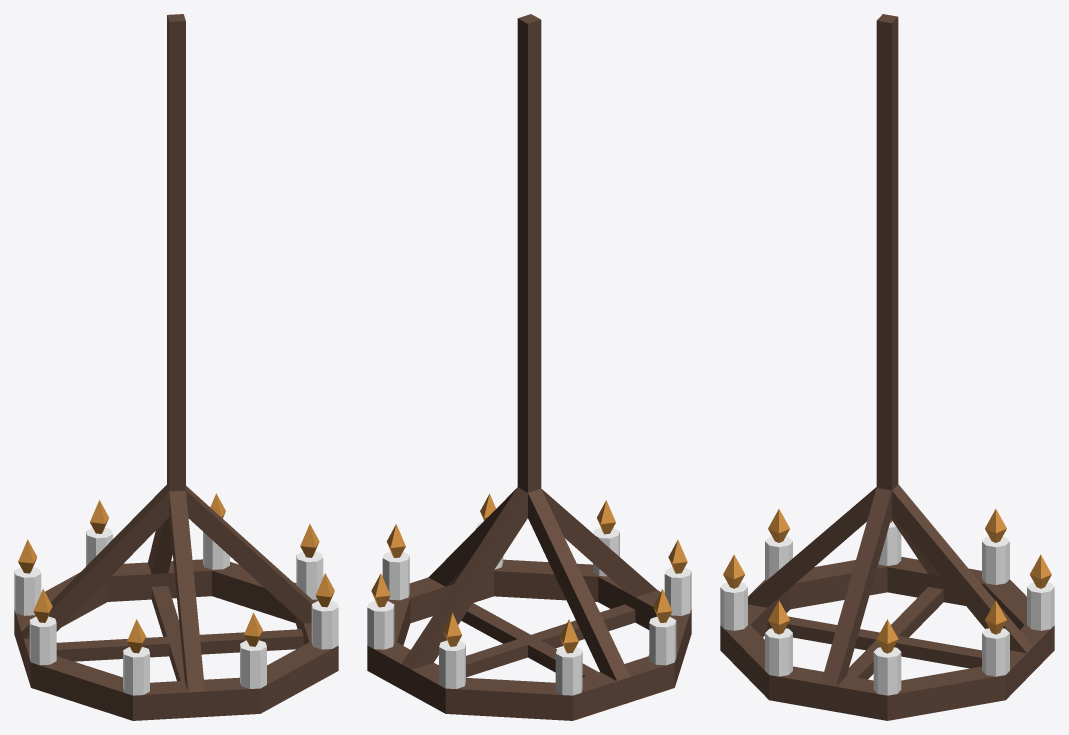
The model's file is LightCeilling.fbx.
The picture shows the model from 3 angles, left to right: view 1: azimuth 30°, elevation 25°; view 2: azimuth 150°, elevation 25°; view 3: azimuth 270°, elevation 25°; orthographic projection.
Visible parts, largest first — view 1: LightCeilLarge_2x2x3; view 2: LightCeilLarge_2x2x3; view 3: LightCeilLarge_2x2x3.
Part boxes in pixels (<box>): LightCeilLarge_2x2x3: <box>14,14,338,720</box>; LightCeilLarge_2x2x3: <box>367,14,691,720</box>; LightCeilLarge_2x2x3: <box>720,14,1054,720</box>.
Size of the model in its own units: 120 by 250 by 120.
